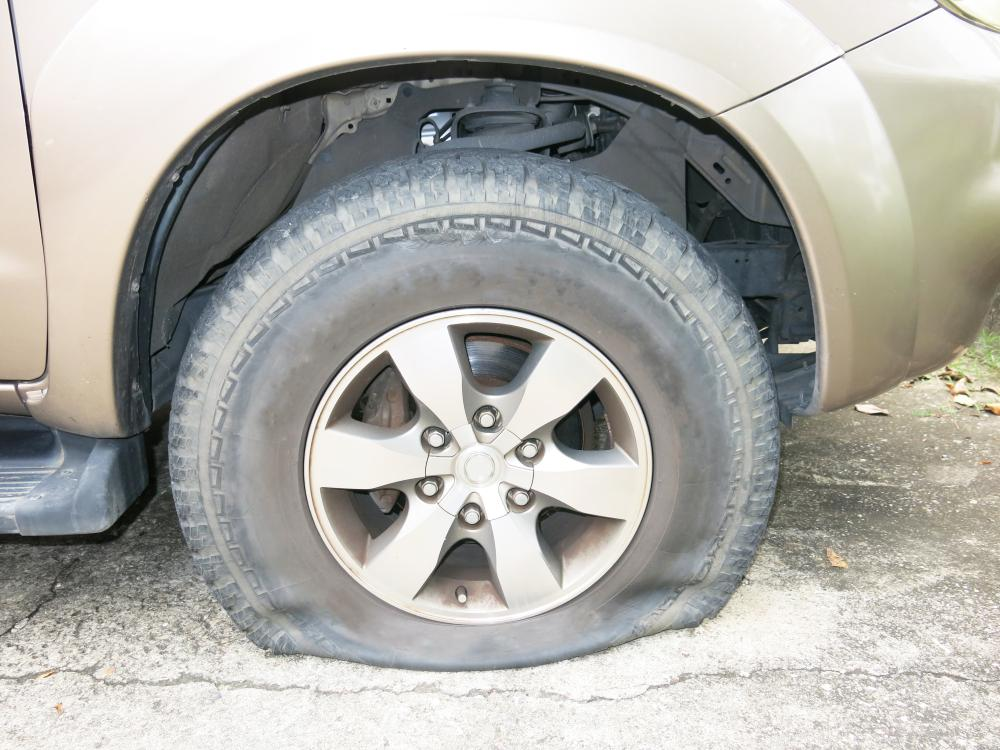tire flat: (168, 148, 782, 673)
